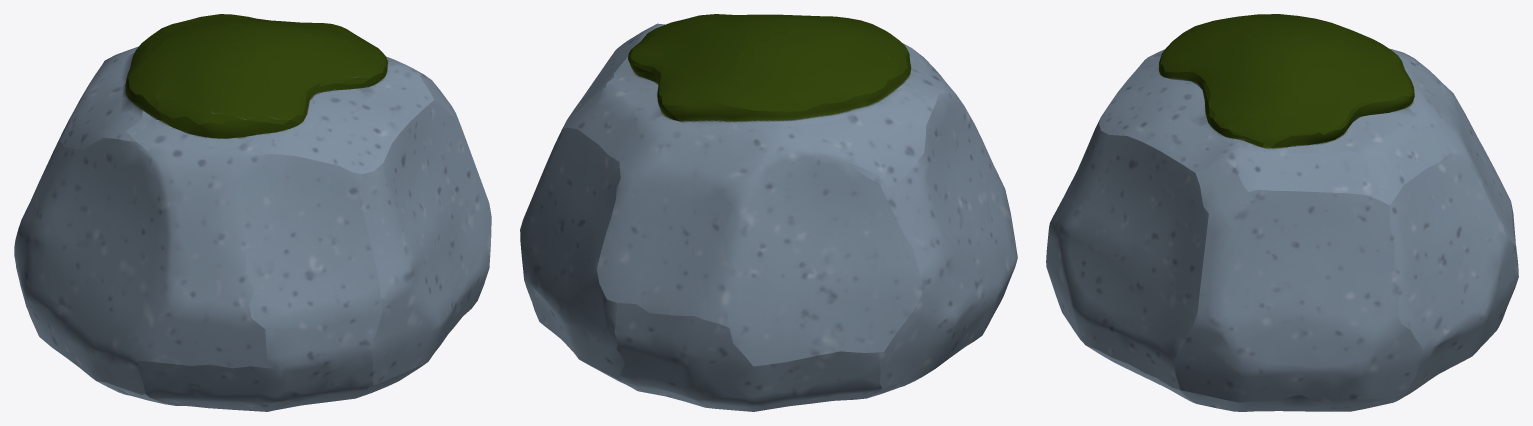
File: ENV_09_ROCK.glb
The picture shows the model from 3 angles, left to right: view 1: azimuth 30°, elevation 25°; view 2: azimuth 150°, elevation 25°; view 3: azimuth 270°, elevation 25°; orthographic projection. The views are drawn at different scales.
Parts seen in each view (by area): view 1: world; view 2: world; view 3: world.
Boxes of the visible parts, box(x1,y1,x2,y2) form: world: box(14, 14, 491, 411); world: box(520, 14, 1017, 411); world: box(1046, 14, 1518, 411).
Size of the model in its own units: 0.991 by 0.755 by 1.
1 material, 1 textured.
